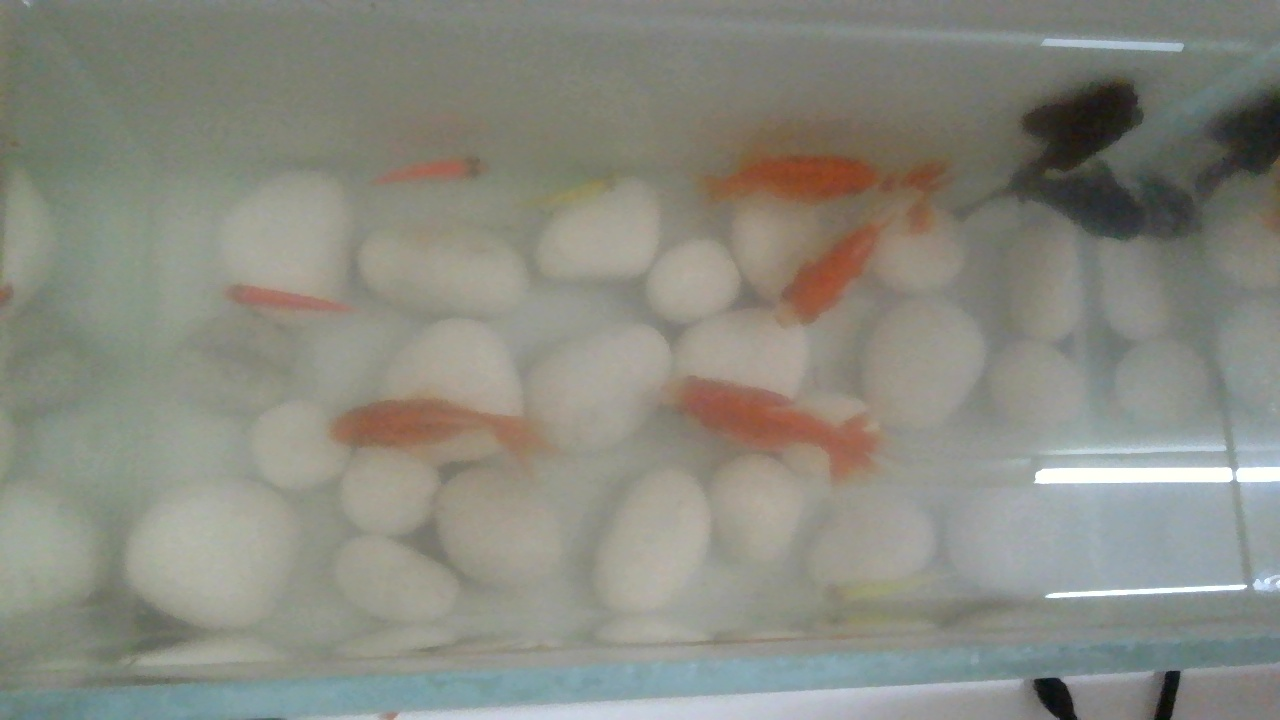fish: (667, 369, 883, 494)
